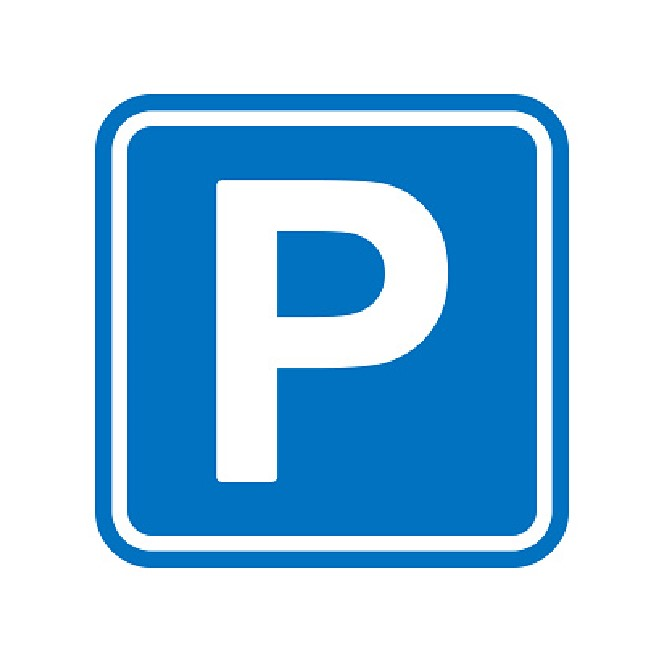Parking: (91, 90, 574, 573)
